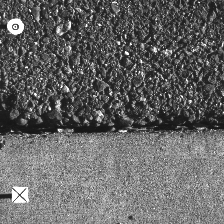circle: (7, 19, 24, 35)
crack: (1, 118, 223, 135)
square: (11, 187, 28, 202)
